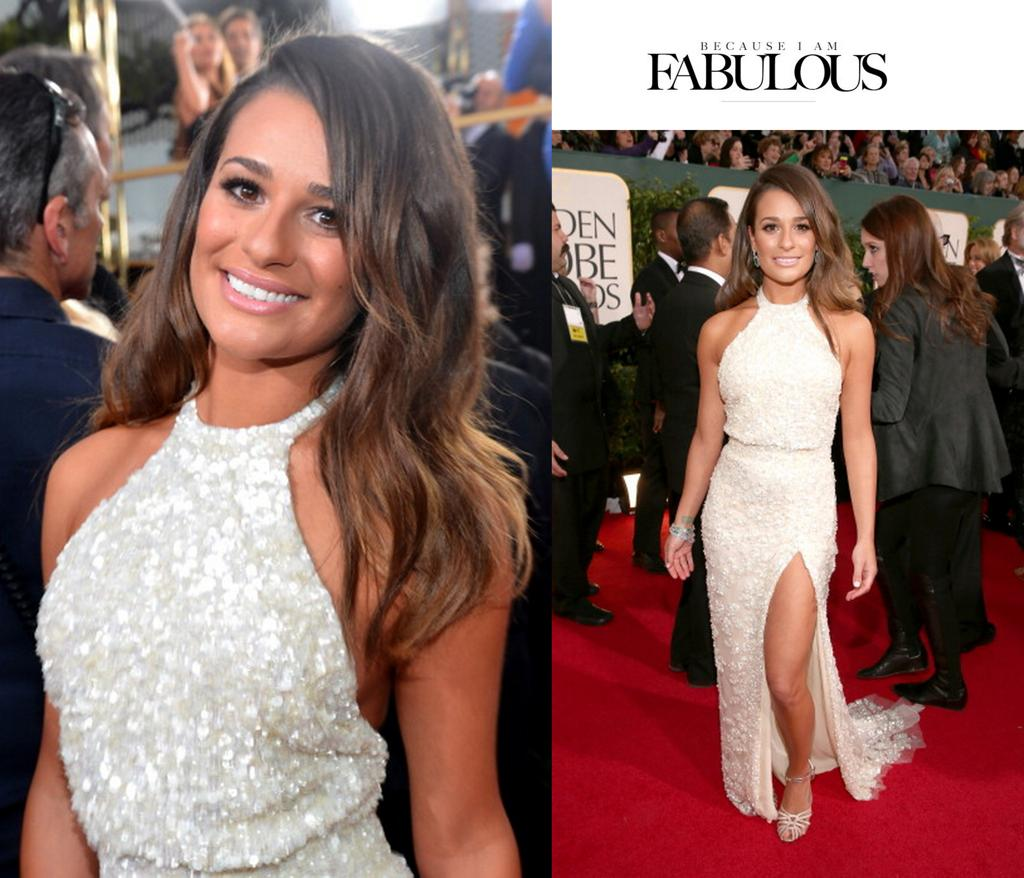face: (190, 120, 374, 358), (34, 159, 109, 295), (753, 195, 819, 282), (863, 228, 902, 286), (533, 216, 567, 268), (226, 24, 257, 66), (186, 26, 220, 64), (664, 220, 689, 257), (467, 80, 494, 111), (969, 248, 989, 278), (702, 135, 719, 155), (727, 143, 742, 164), (817, 151, 831, 170), (616, 130, 631, 147), (766, 144, 779, 163), (979, 177, 992, 194), (906, 164, 917, 181), (941, 171, 953, 186), (867, 149, 879, 163), (830, 133, 840, 148), (998, 174, 1007, 186), (1010, 169, 1019, 181), (968, 134, 976, 147), (920, 156, 928, 168), (900, 148, 908, 160), (981, 136, 987, 148)
